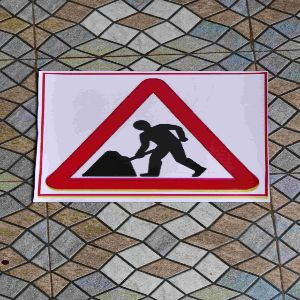men at work: (40, 73, 263, 196)
